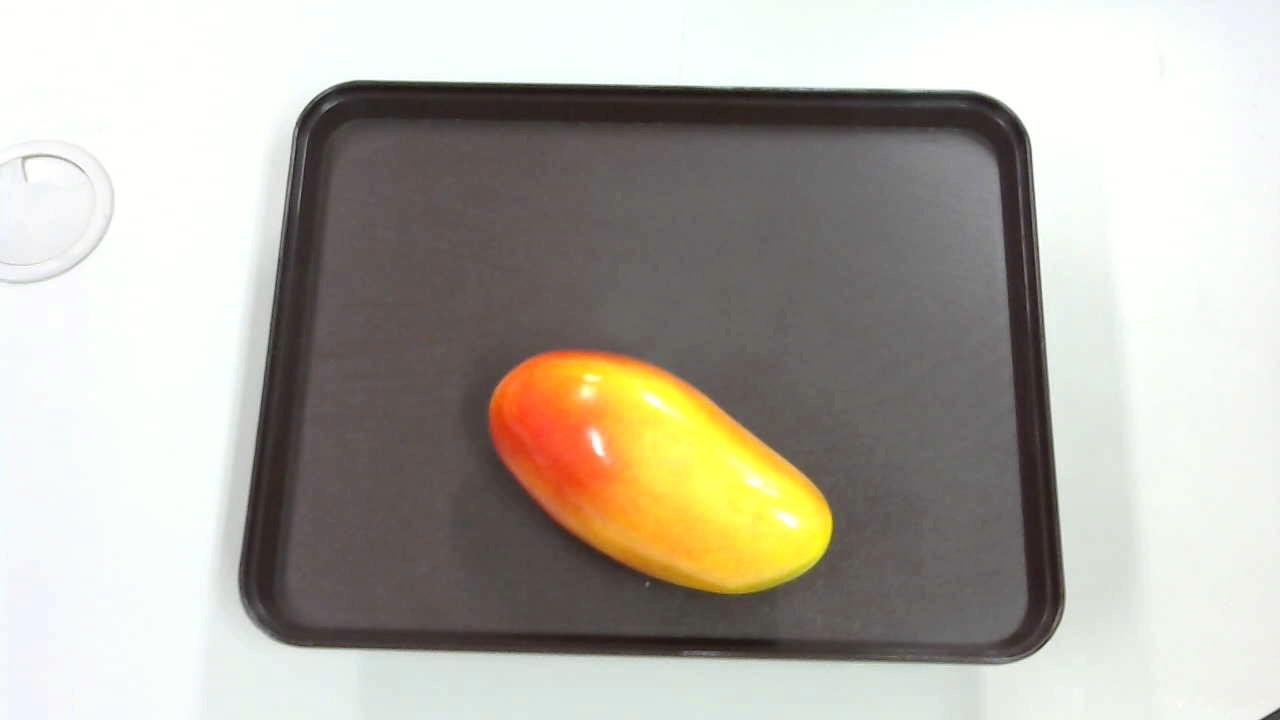red mango: (485, 337, 839, 593)
